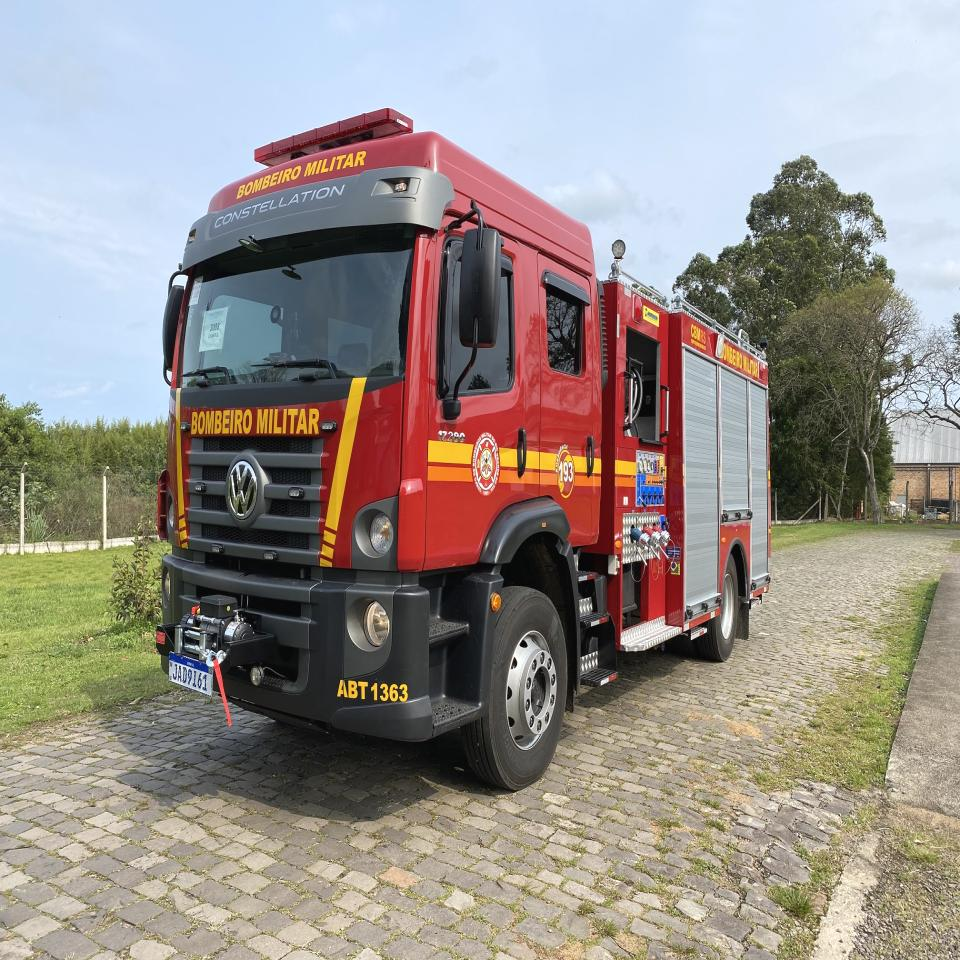bombeiro: (155, 107, 772, 792)
